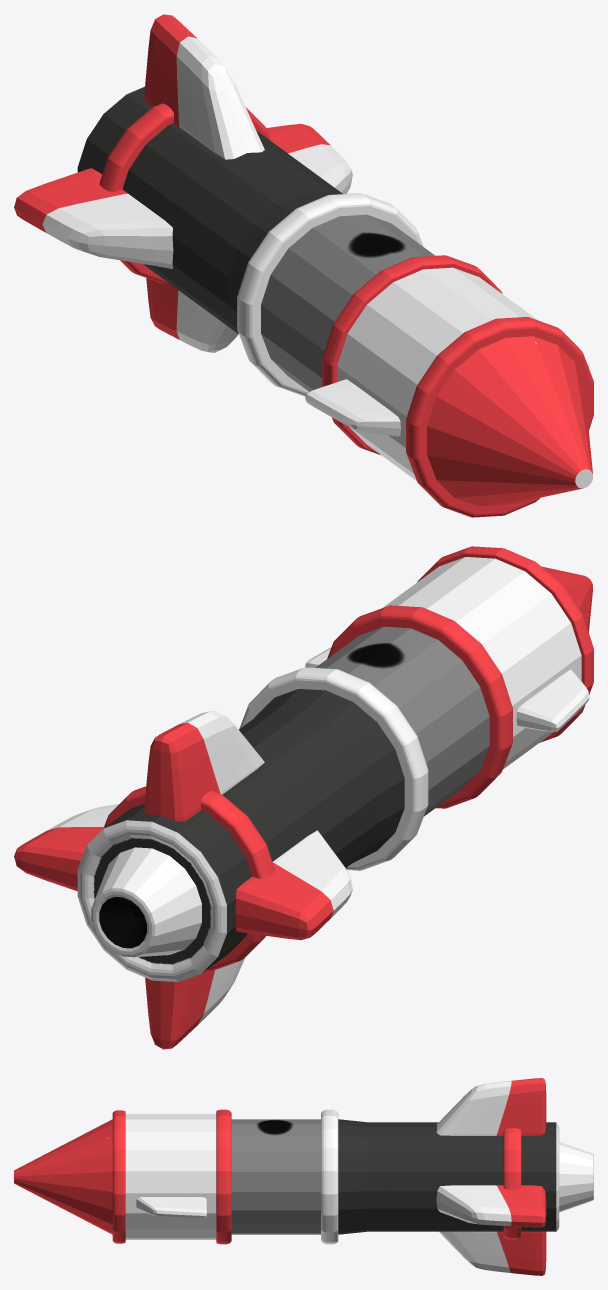
Rendered from Rocket3Red.fbx.
3 views of the same model, one above another, from view 1: azimuth 30°, elevation 25°; view 2: azimuth 150°, elevation 25°; view 3: azimuth 270°, elevation 25° (orthographic). The views are drawn at different scales.
Visible parts, largest first — view 1: Cylinder.009, Cube.012, Cube.013; view 2: Cylinder.009, Cube.012, Cube.013; view 3: Cylinder.009, Cube.012, Cube.013.
Part boxes in pixels (bbox=[...]): Cylinder.009: bbox=[77, 86, 593, 517]; Cube.012: bbox=[14, 14, 352, 352]; Cube.013: bbox=[305, 360, 589, 436]; Cylinder.009: bbox=[77, 546, 593, 981]; Cube.012: bbox=[14, 711, 352, 1049]; Cube.013: bbox=[305, 647, 589, 731]; Cylinder.009: bbox=[14, 1109, 593, 1244]; Cube.012: bbox=[436, 1078, 546, 1275]; Cube.013: bbox=[136, 1197, 206, 1217].
Bounding box in the file's own units: 0.7581 × 0.7581 × 2.03.
